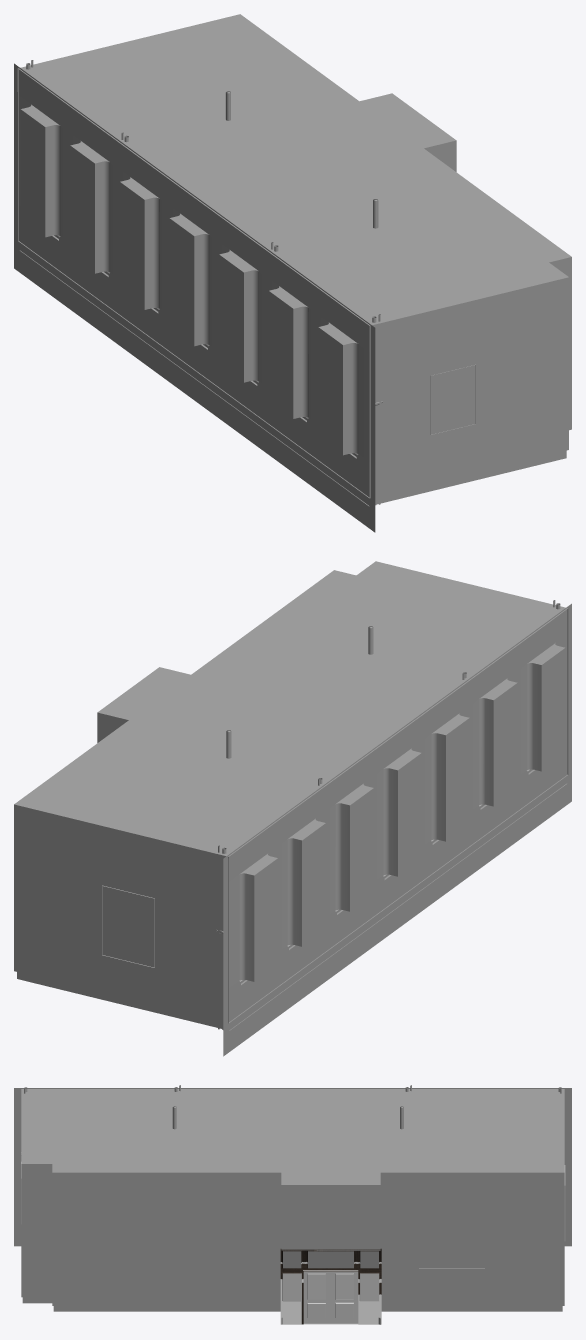
Rendered from TeaRoom.fbx.
The picture shows the model from 3 angles, top to bottom: view 1: azimuth 30°, elevation 25°; view 2: azimuth 150°, elevation 25°; view 3: azimuth 270°, elevation 25°; orthographic projection. The views are drawn at different scales.
Parts seen in each view (by area): view 1: polySurface237, WindowWall; view 2: polySurface237, WindowWall; view 3: polySurface237, WindowWall, carpet, polySurface232, mainDoor19, mainDoor20, polySurface239, polySurface242, polySurface241, glass10, glass11, polySurface240 (+1 smaller).
Part boxes in pixels (x1,y1,x2,y2): polySurface237: (17,14,571,504); WindowWall: (14,63,375,532); polySurface237: (14,561,568,1028); WindowWall: (223,603,571,1056); polySurface237: (21,1089,564,1324); WindowWall: (14,1088,571,1246); carpet: (283,1252,378,1296); polySurface232: (280,1248,381,1324); mainDoor19: (330,1270,358,1323); mainDoor20: (303,1270,330,1323); polySurface239: (308,1251,353,1268); polySurface242: (282,1273,301,1301); polySurface241: (360,1273,379,1301); glass10: (336,1273,353,1300); glass11: (308,1273,325,1300); polySurface240: (360,1251,378,1268).
Size of the model in its own units: 8.81 by 7.27 by 20.61.
